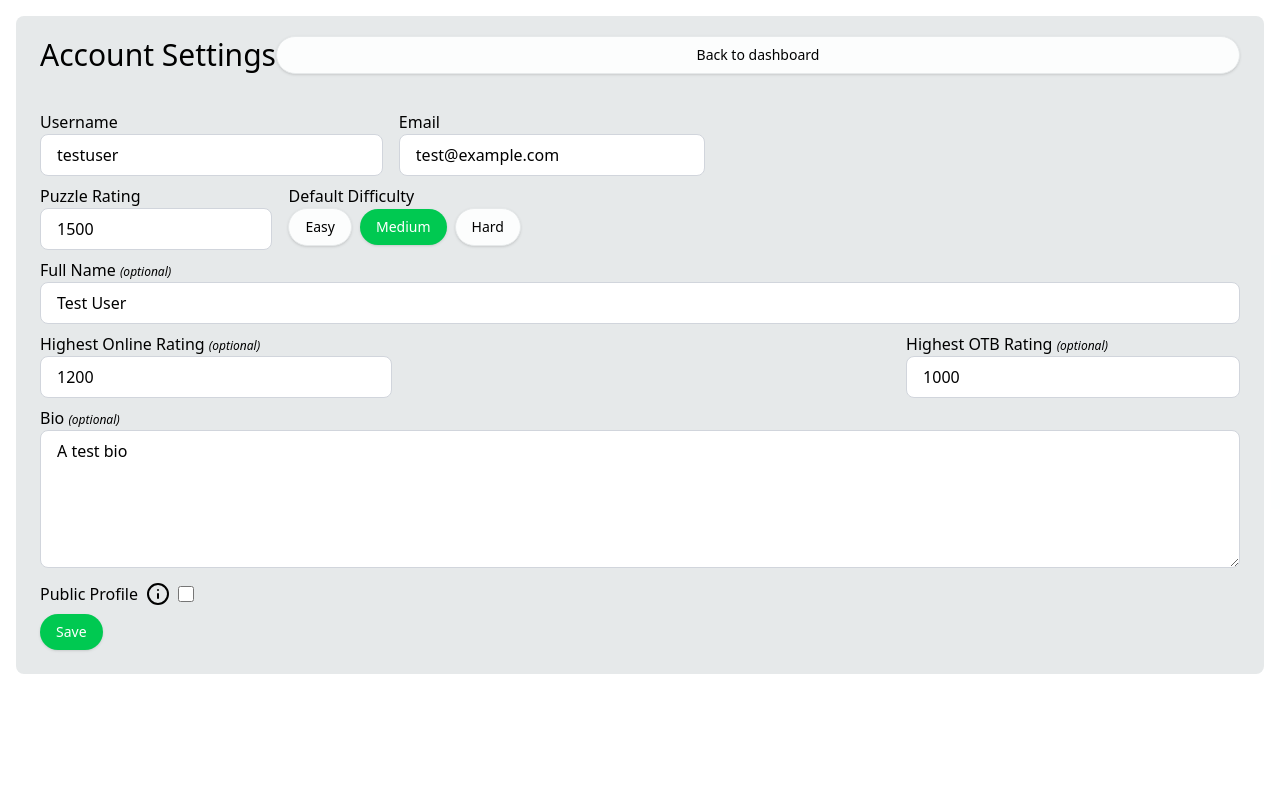
Test case: Account Editing › prevents saving when required information is missing
Clear the field labelled "Username": x=211, y=155 [40,134,383,176]
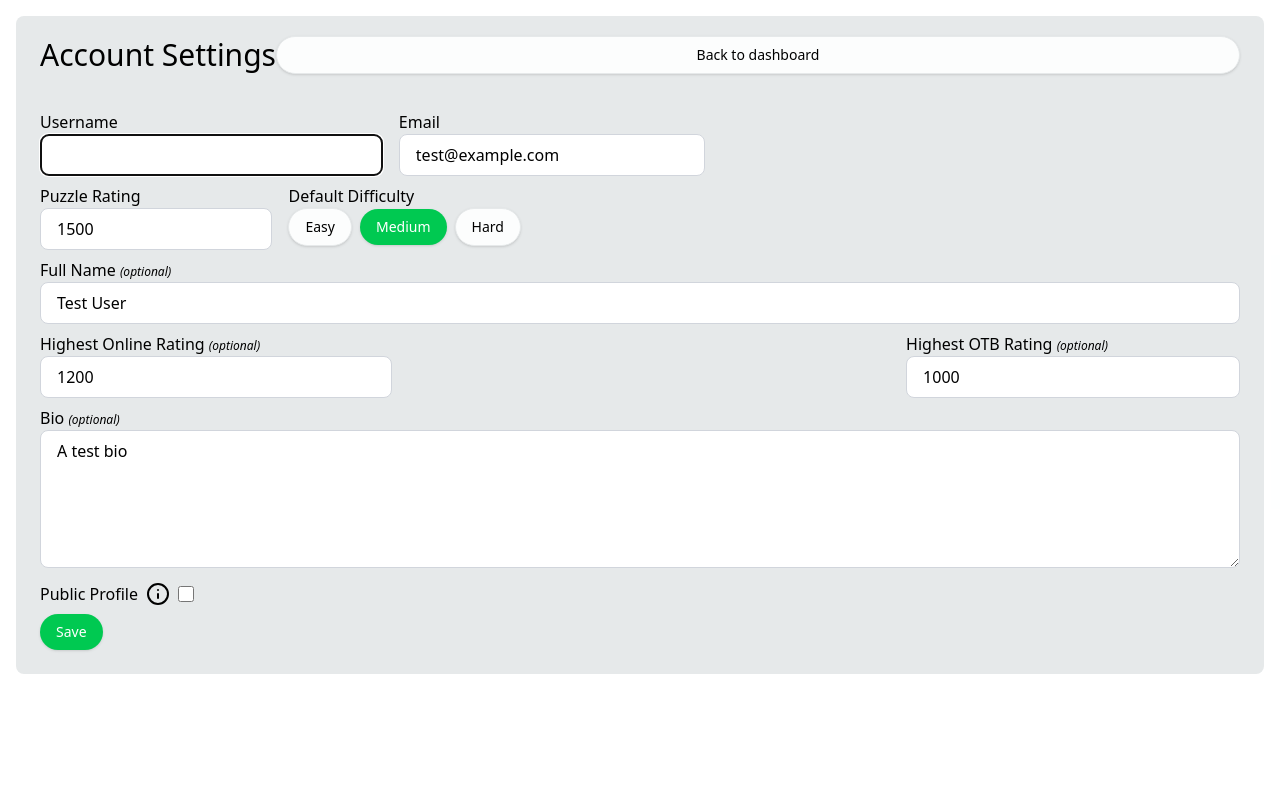
Click the button "Save": x=71, y=632 [40,614,103,650]
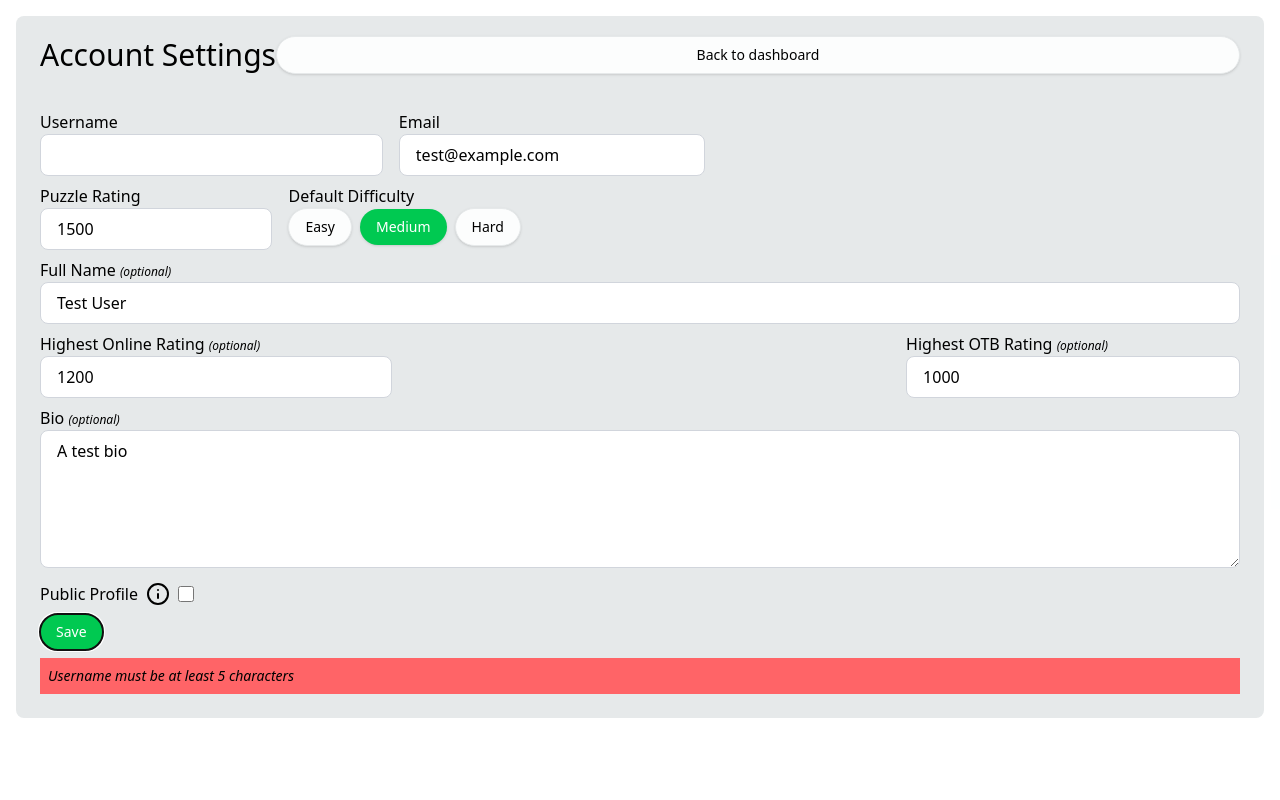
Check: the text "Username must be at least 5 characters" is shown, box [40,658,1240,694]
